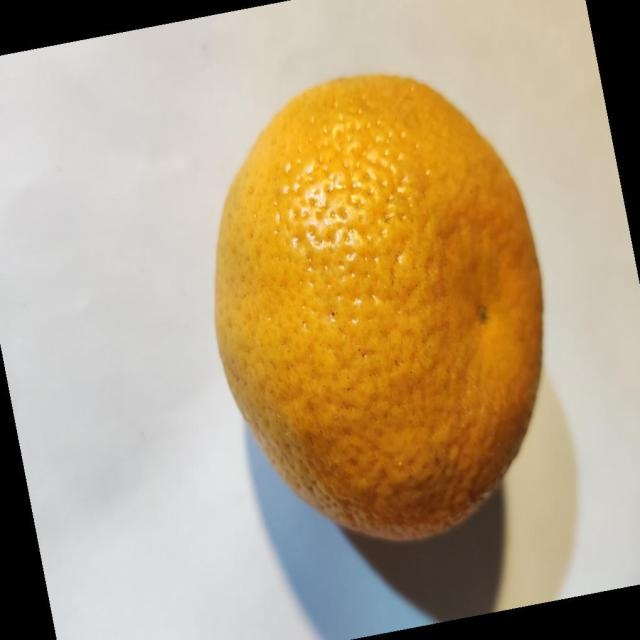agrume: (212, 72, 544, 542)
